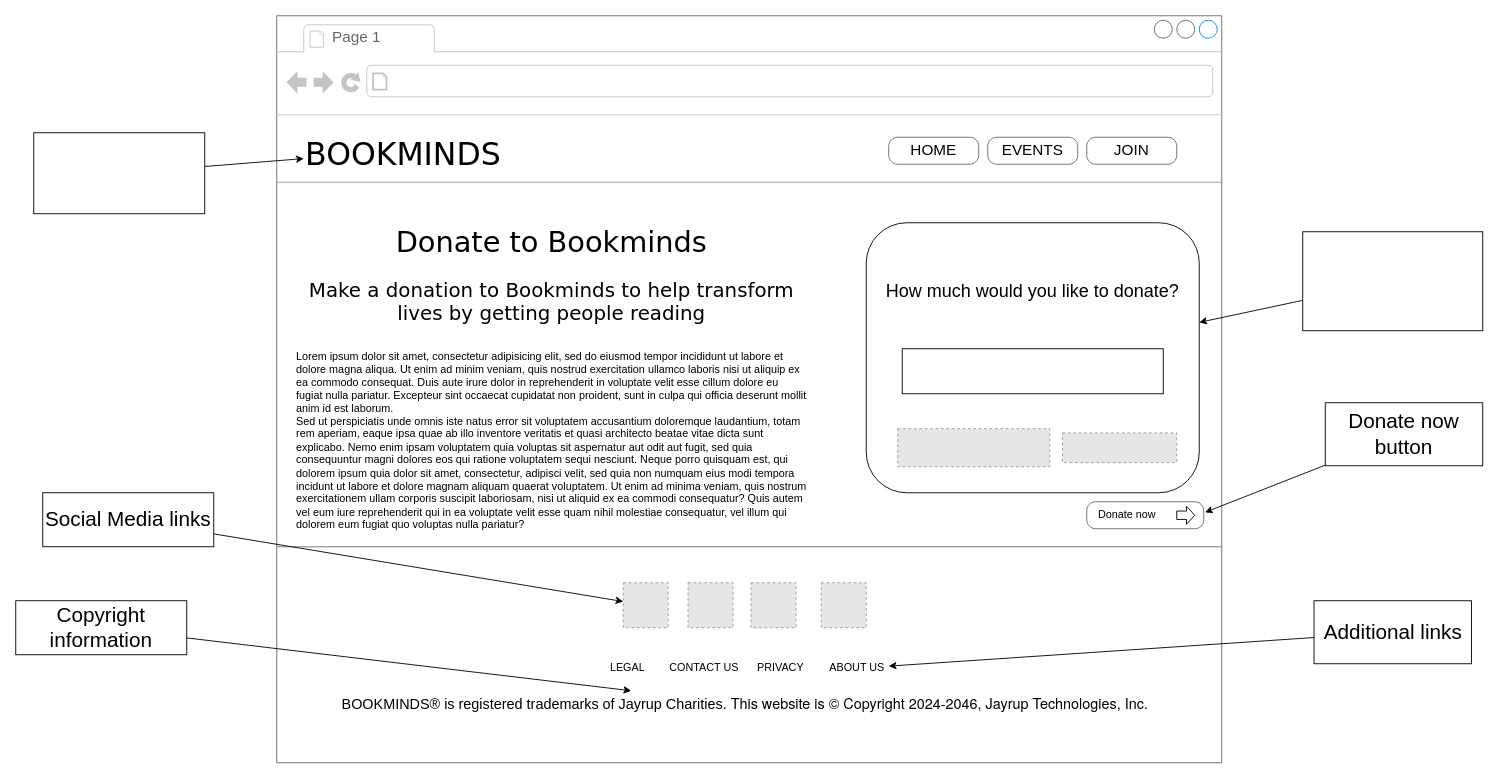
The diagram is 1499 pixels wide and 779 high, and some of its shapes have lost their labels. Grey dashed boxes stand in for pictures. The shapes that lost their labels are listed below. From the top down, each one's centre as x and y in pixels, then its label:
At point (533, 81): "https://uni.jayrup.net/Bookminds/Donate".
At point (119, 173): "Title with importnat links at the top".
At point (1392, 281): "Payment gateway leading to a form".
At point (1032, 371): "Insert amount here".
